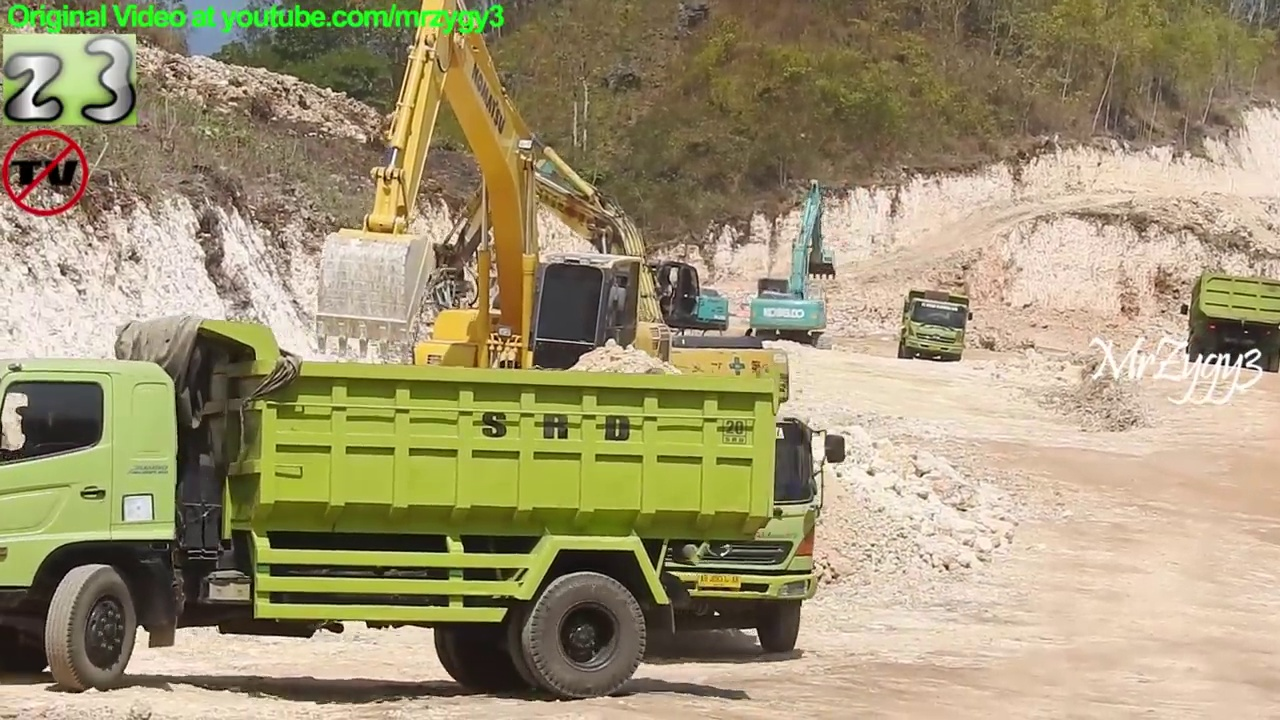excavator: (305, 2, 689, 486), (409, 130, 802, 471), (469, 151, 740, 367), (743, 175, 843, 355)
truck: (1, 311, 793, 700), (499, 357, 846, 662), (1178, 271, 1280, 376), (895, 283, 974, 367)
